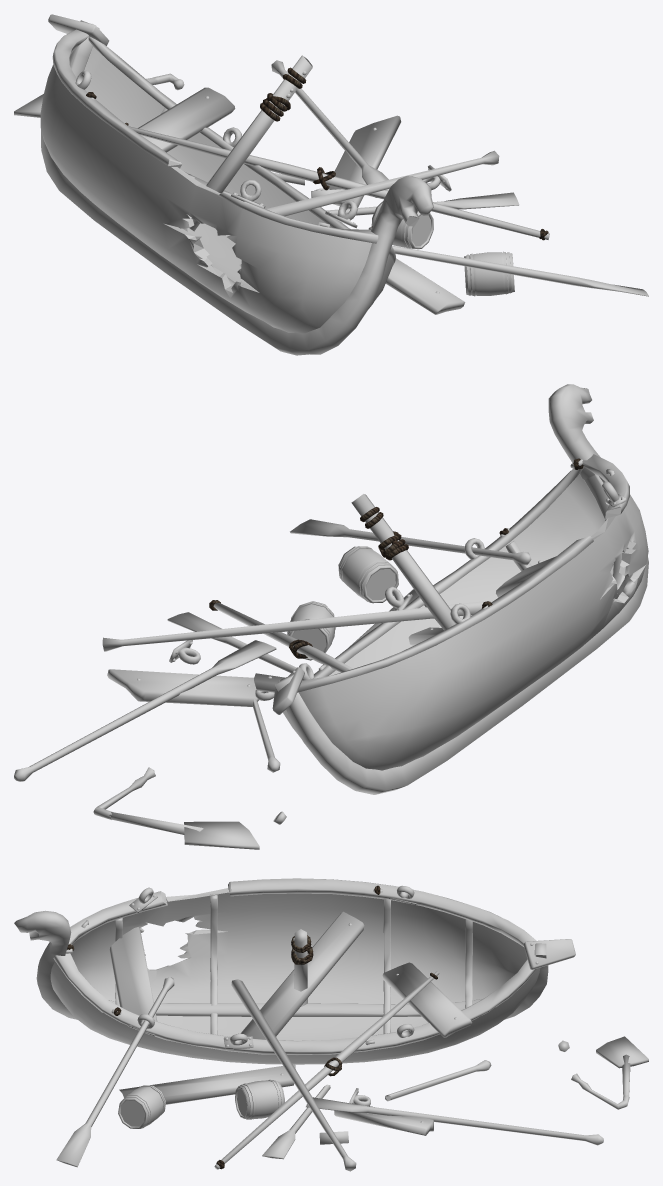
The model's file is Medieval_boat_damaged.FBX.
The picture shows the model from 3 angles, top to bottom: view 1: azimuth 30°, elevation 25°; view 2: azimuth 150°, elevation 25°; view 3: azimuth 270°, elevation 25°; orthographic projection. The views are drawn at different scales.
Visible parts, largest first — view 1: medieval_boat01, boat_paddle_05, boat_barrel02, boat_paddle_06, boat_paddle_broken, boat_barrel03, boat_wheel01; view 2: medieval_boat01, boat_wheel01, boat_paddle_06, boat_barrel02, boat_paddle_05, boat_paddle_broken, boat_barrel03; view 3: medieval_boat01, boat_paddle_06, boat_paddle_05, boat_wheel01, boat_paddle_broken, boat_barrel03, boat_barrel02.
Boxes of the visible parts, x1,y1,x2,y2 form: medieval_boat01: (40, 14, 549, 355); boat_paddle_05: (392, 245, 648, 296); boat_barrel02: (464, 251, 514, 296); boat_paddle_06: (271, 60, 389, 197); boat_paddle_broken: (273, 172, 519, 215); boat_barrel03: (371, 201, 433, 249); boat_wheel01: (14, 73, 184, 117); medieval_boat01: (102, 384, 648, 824); boat_wheel01: (93, 767, 259, 849); boat_paddle_06: (14, 640, 276, 781); boat_barrel02: (338, 546, 398, 603); boat_paddle_05: (290, 519, 531, 565); boat_paddle_broken: (167, 612, 296, 772); boat_barrel03: (287, 601, 335, 660); medieval_boat01: (14, 878, 575, 1171); boat_paddle_06: (306, 1097, 603, 1145); boat_paddle_05: (56, 977, 174, 1167); boat_wheel01: (571, 1036, 648, 1109); boat_paddle_broken: (262, 1060, 491, 1159); boat_barrel03: (235, 1079, 284, 1119); boat_barrel02: (118, 1085, 166, 1128).
Size of the model in its own units: 339 by 155 by 548.
